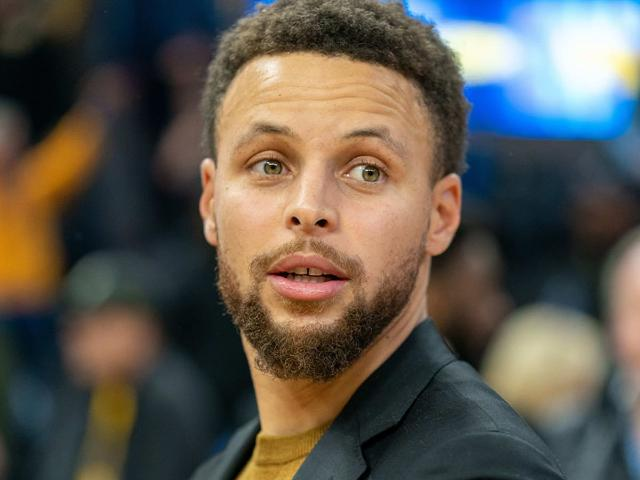forehead: (362, 78, 408, 116), (248, 87, 286, 113)
